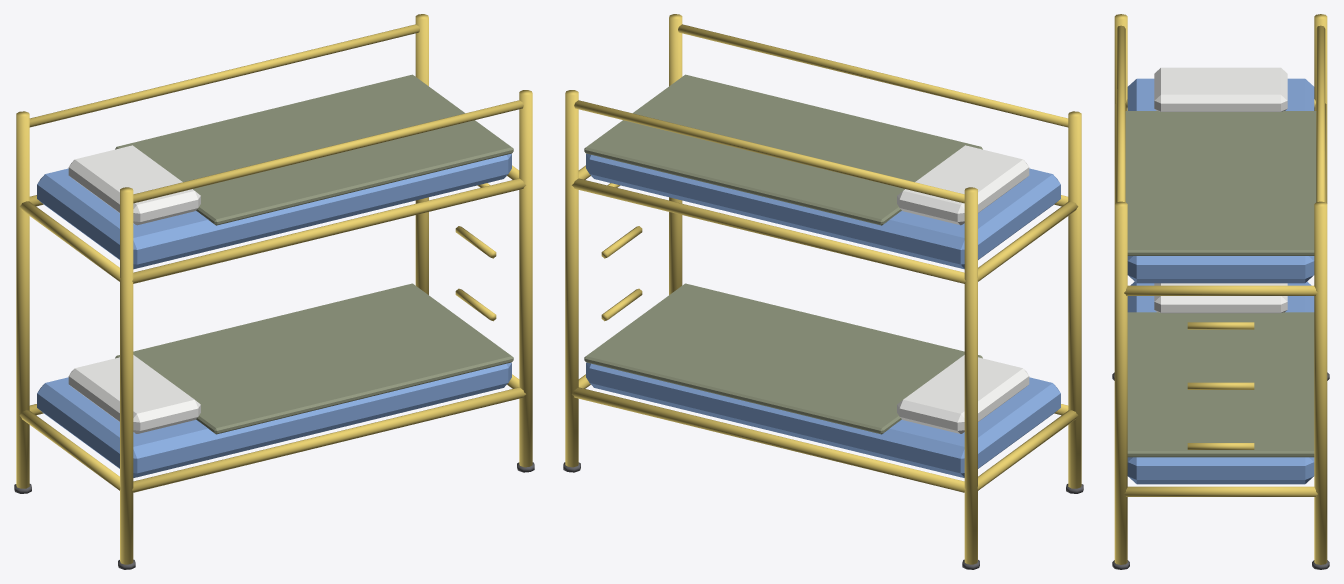
File: v_bp_bunk.glb
The picture shows the model from 3 angles, left to right: view 1: azimuth 30°, elevation 25°; view 2: azimuth 150°, elevation 25°; view 3: azimuth 270°, elevation 25°; orthographic projection. The views are drawn at different scales.
Visible parts, largest first — view 1: Bunk; view 2: Bunk; view 3: Bunk.
Part boxes in pixels (box(x1,y1,x2,y2)): Bunk: box(14, 14, 534, 569); Bunk: box(563, 14, 1083, 569); Bunk: box(1112, 14, 1329, 569).
Bounding box in the file's own units: 2.08 × 1.8 × 0.98.
